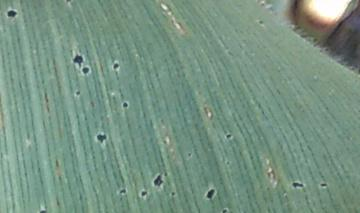tarspot: (70, 49, 85, 69), (151, 172, 164, 188), (204, 187, 217, 201), (94, 132, 108, 144), (79, 65, 92, 77), (5, 8, 19, 19), (290, 180, 305, 189), (116, 186, 129, 195), (317, 181, 329, 190), (119, 100, 129, 110), (138, 188, 148, 198), (111, 61, 121, 71), (224, 131, 233, 142), (160, 137, 171, 146), (73, 89, 82, 98), (257, 18, 266, 27), (185, 150, 194, 159), (219, 207, 231, 213), (169, 190, 178, 198), (224, 158, 232, 167), (36, 208, 48, 213), (62, 1, 72, 4)
